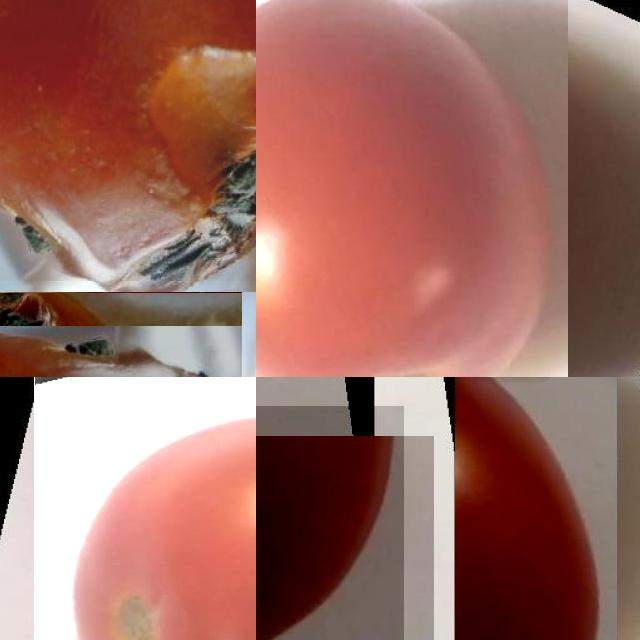Fresh Tomato: (256, 0, 568, 377), (34, 377, 256, 640), (454, 377, 617, 640), (256, 406, 404, 640)
Rotten Tomato: (0, 0, 256, 281), (0, 292, 242, 377)
